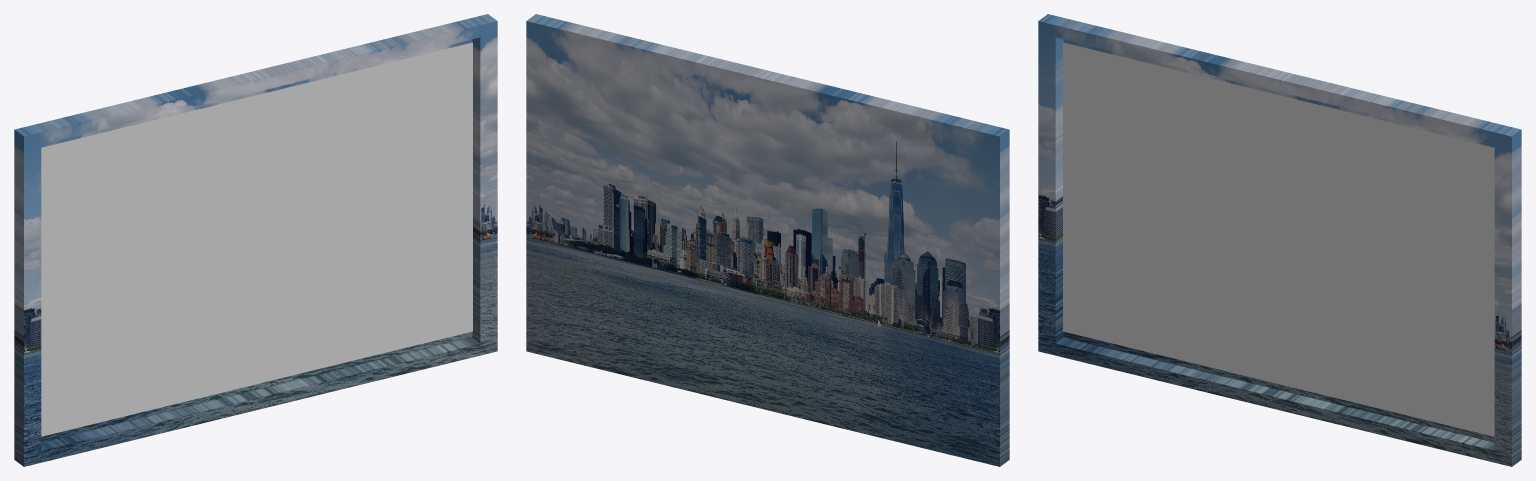
The model's file is Nyc.glb.
3 renders of one model, left to right at view 1: azimuth 30°, elevation 25°; view 2: azimuth 150°, elevation 25°; view 3: azimuth 330°, elevation 25°, orthographic.
Visible parts, largest first — view 1: Plane.001, Plane; view 2: Plane; view 3: Plane.001, Plane.
Part boxes in pixels (bbox=[...]): Plane.001: bbox=[41, 42, 472, 436]; Plane: bbox=[14, 14, 497, 466]; Plane: bbox=[526, 14, 1009, 466]; Plane.001: bbox=[1063, 42, 1494, 436]; Plane: bbox=[1038, 14, 1521, 466].
Size of the model in its own units: 2.4 by 1.6 by 0.0847.
Materials: 1 (1 with a texture image).
